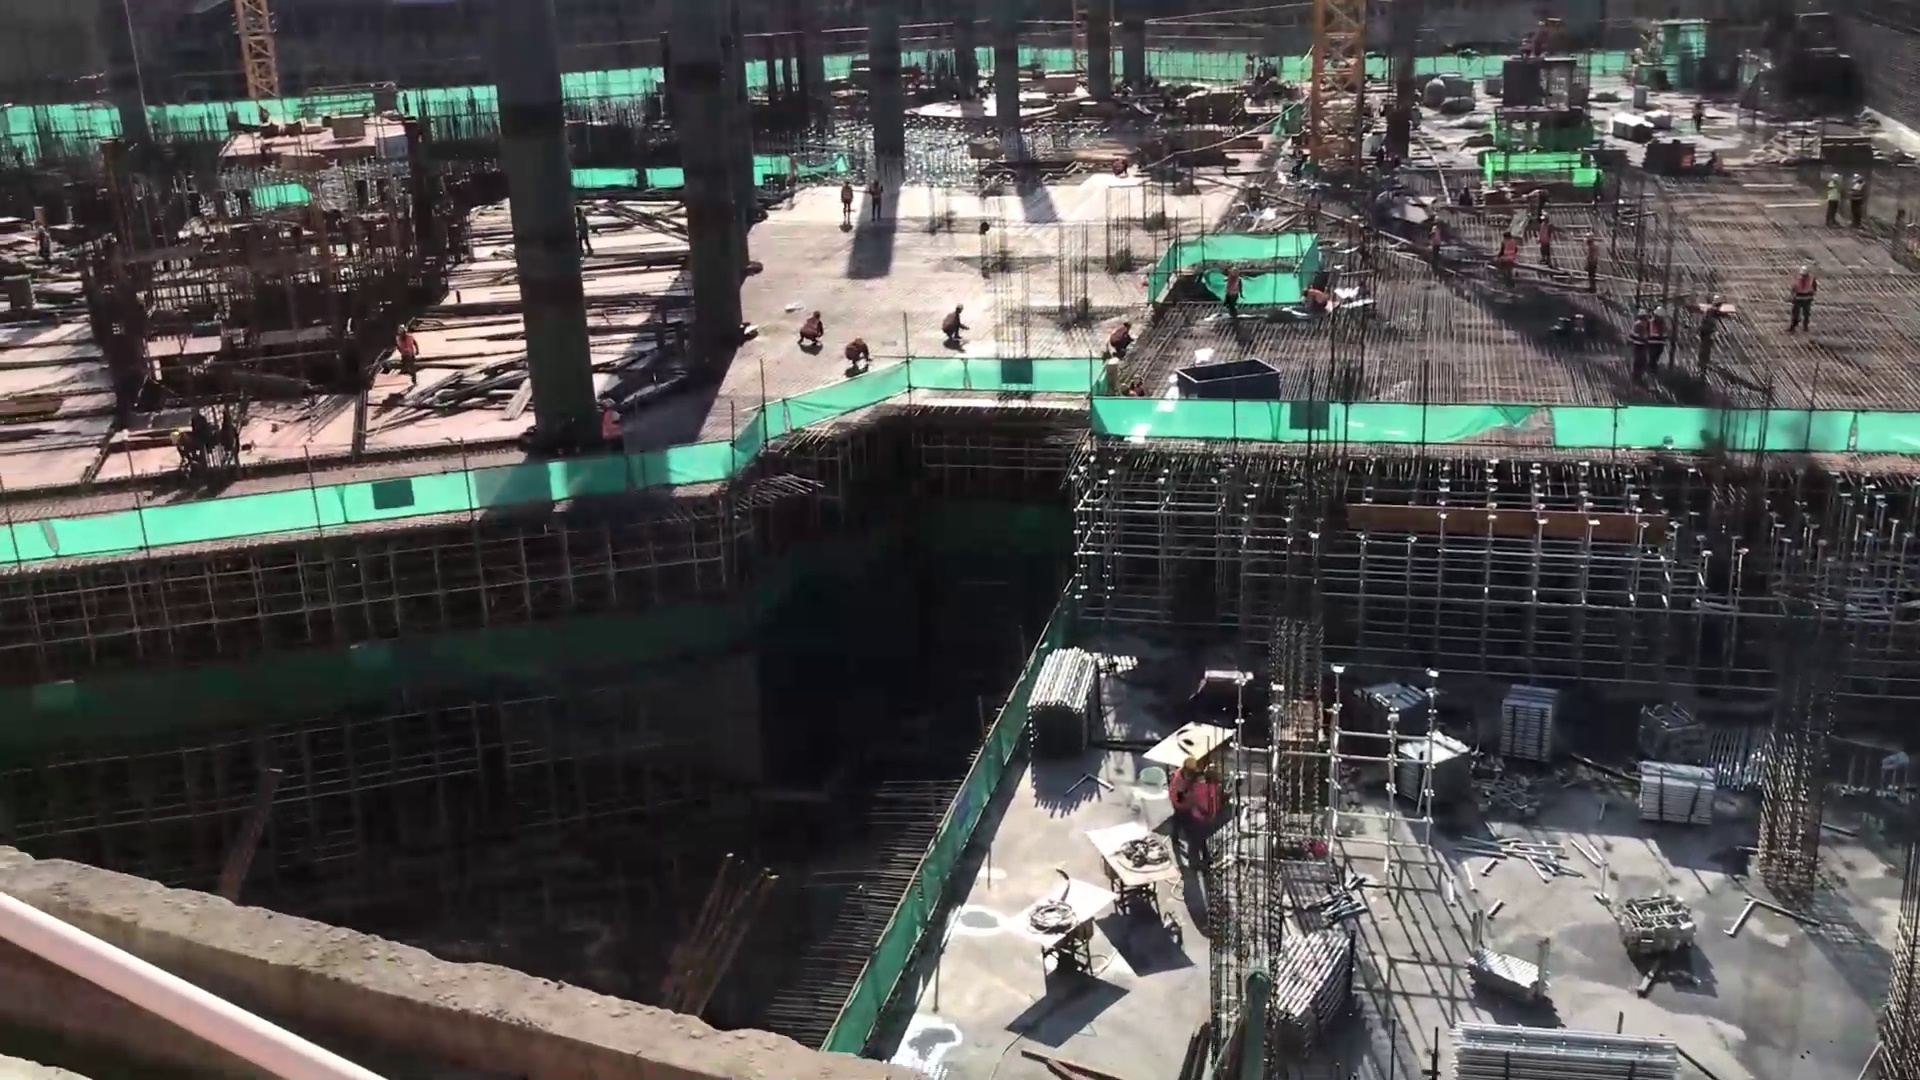hopper: (1176, 357, 1274, 396)
person: (1189, 762, 1224, 870), (1172, 755, 1196, 857), (1789, 266, 1817, 334), (392, 323, 421, 379), (1702, 295, 1721, 379), (598, 400, 628, 450), (1631, 311, 1649, 382), (1223, 267, 1243, 321), (942, 300, 969, 341), (1538, 213, 1555, 275), (839, 177, 858, 229), (1581, 235, 1598, 294), (1497, 232, 1515, 285), (1848, 172, 1865, 228), (801, 306, 824, 346), (1824, 171, 1840, 228), (840, 338, 870, 366), (1109, 317, 1133, 354), (1428, 215, 1443, 271), (1649, 306, 1661, 368), (867, 177, 883, 220), (1302, 289, 1328, 313)
scaffold: (1455, 1020, 1680, 1080), (1264, 930, 1354, 1044), (1028, 645, 1099, 751), (1394, 730, 1464, 811), (1637, 759, 1720, 824), (1499, 685, 1558, 760), (1358, 680, 1431, 729)
